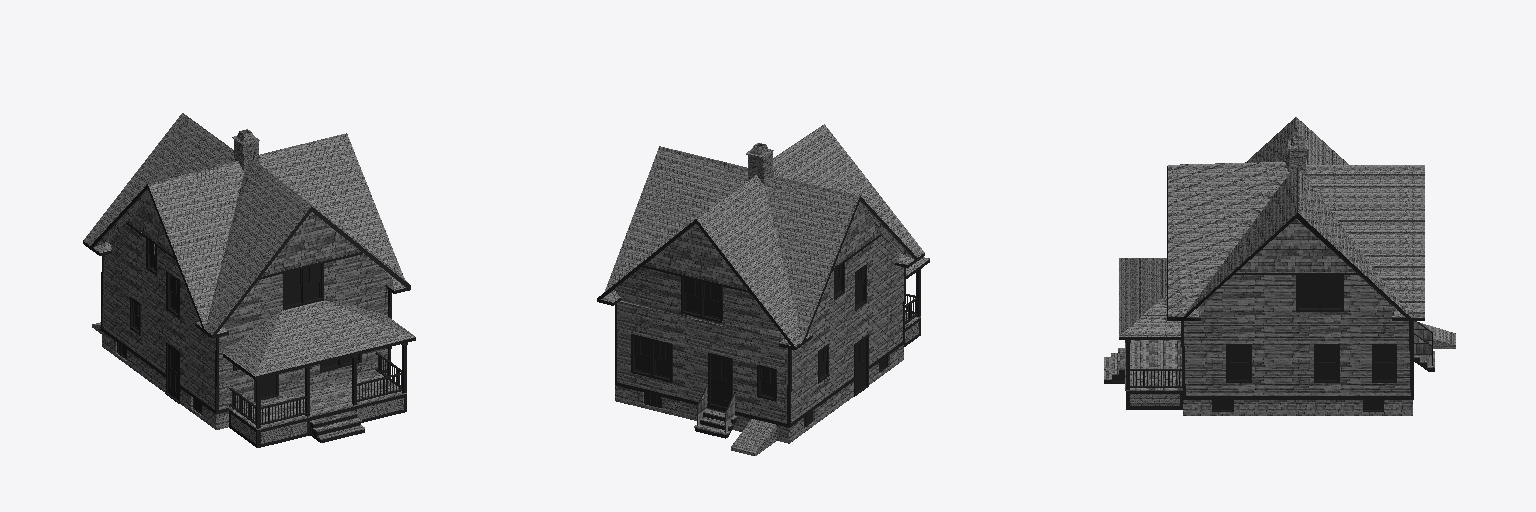
The picture shows the model from 3 angles: view 1: azimuth 30°, elevation 25°; view 2: azimuth 150°, elevation 25°; view 3: azimuth 270°, elevation 25°; orthographic projection.
Visible parts, largest first — view 1: 3d_model; view 2: 3d_model; view 3: 3d_model.
Boxes of the visible parts, <box> form: 3d_model: <box>83,113,415,447</box>; 3d_model: <box>597,124,929,455</box>; 3d_model: <box>1104,117,1455,415</box>.
Bounding box in the file's own units: 387 × 434 × 589.
Materials: 1 (1 with a texture image).